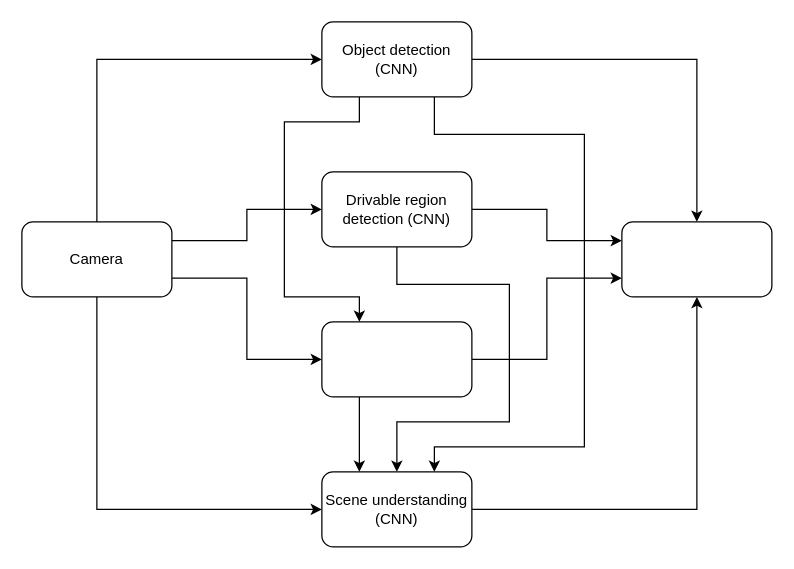
This 794x569 diagram has some shape labels left out. Each missing label, with the centre of its shape:
"Action predictor (RNN)" goes at point (696, 259).
"Semantic segmentation (CNN)" goes at point (396, 359).
